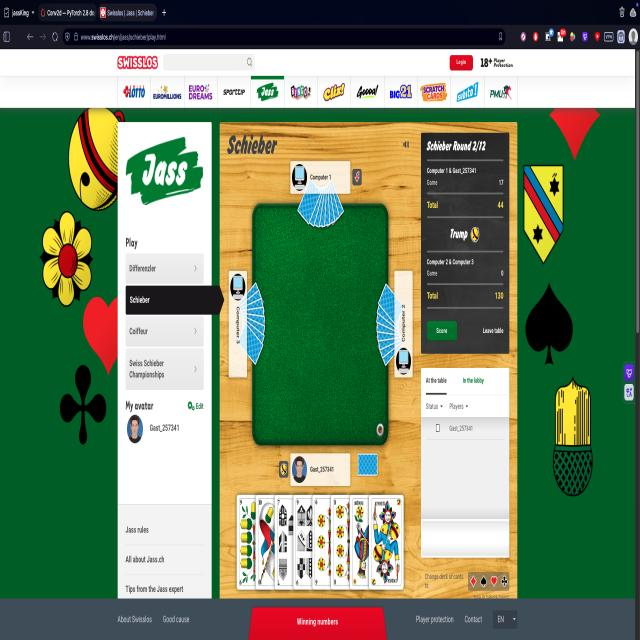ei10: (255, 496, 289, 592)
ei9: (237, 494, 273, 592)
ro6: (312, 494, 345, 594)
ro8: (332, 492, 365, 588)
rok: (352, 494, 384, 587)
seu: (370, 494, 403, 587)
si9: (275, 495, 310, 595), (294, 494, 327, 591)
